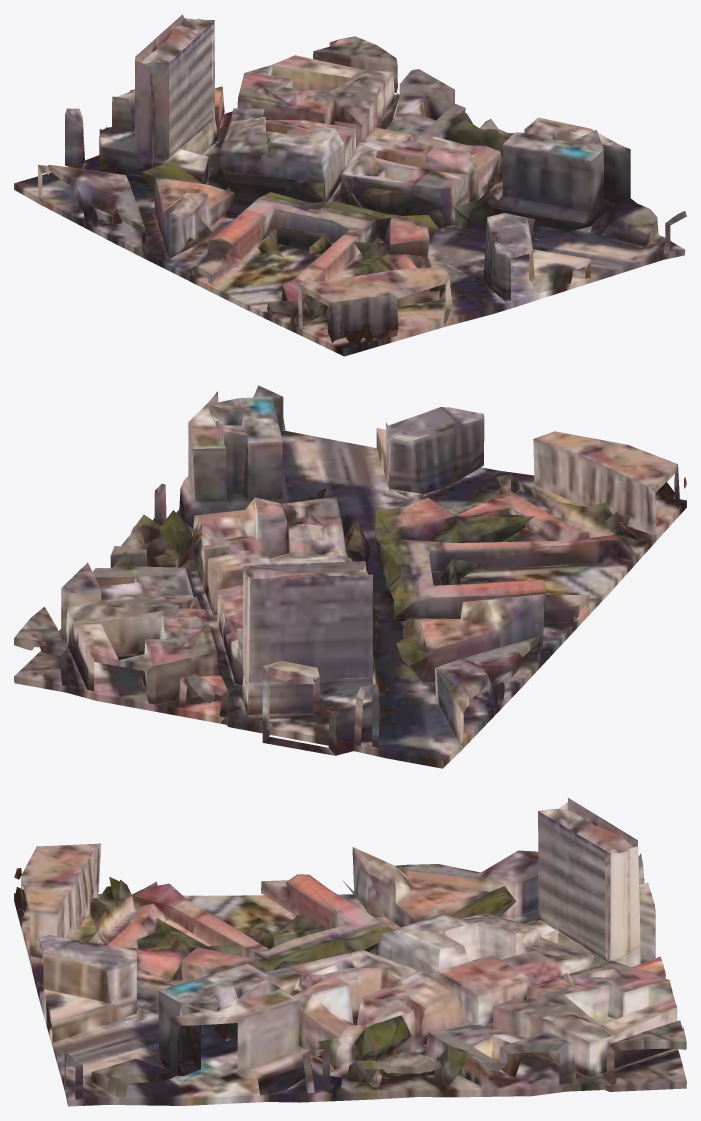
3 views of the same model, one above another, from view 1: azimuth 30°, elevation 25°; view 2: azimuth 150°, elevation 25°; view 3: azimuth 270°, elevation 25° (orthographic). The views are drawn at different scales.
Parts seen in each view (by area): view 1: Mesh_0; view 2: Mesh_0; view 3: Mesh_0.
Part boxes in pixels (x1,y1,x2,y2): Mesh_0: (14,14,686,356); Mesh_0: (14,385,686,768); Mesh_0: (14,798,686,1106).
Bounding box in the file's own units: 267 × 84.21 × 330.
1 material, 1 textured.
